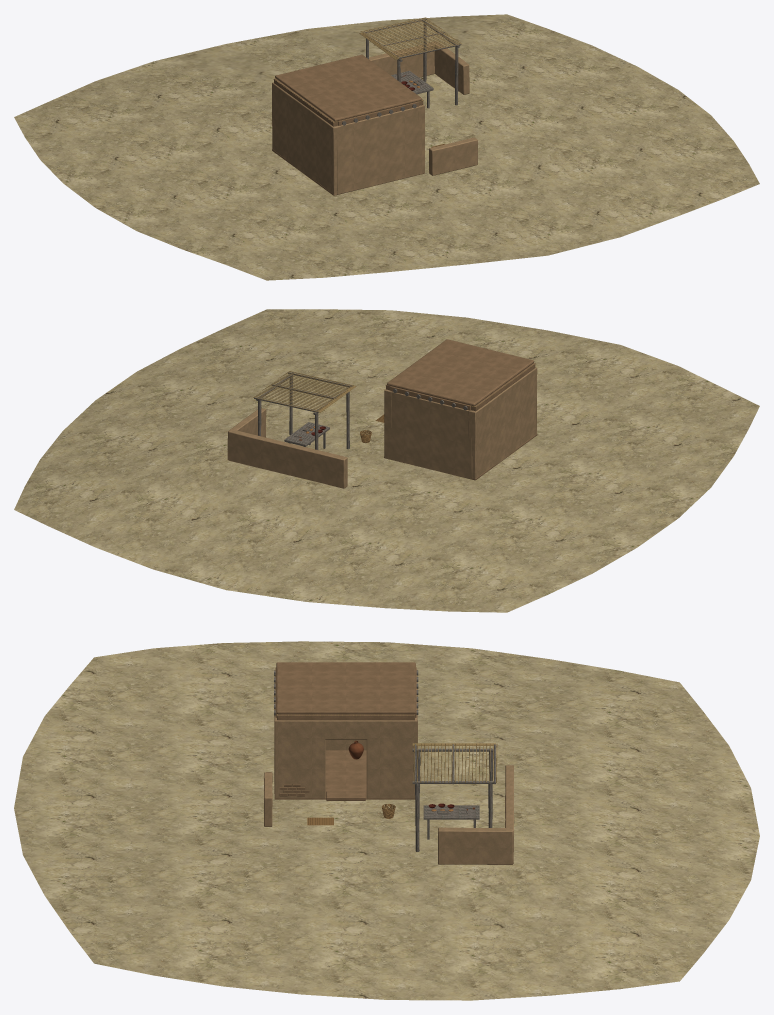
The model's file is service.glb.
3 renders of one model, top to bottom at view 1: azimuth 30°, elevation 25°; view 2: azimuth 150°, elevation 25°; view 3: azimuth 270°, elevation 25°, orthographic. The views are drawn at different scales.
Visible parts, largest first — view 1: Terrain-blended service apron, ARCH | west room wall, ARCH | roof earthen cap, ARCH | rear wall, ARCH | yard west short return, ARCH | yard east return, ARCH | yard south short return; view 2: Terrain-blended service apron, ARCH | east room wall, ARCH | roof earthen cap, ARCH | rear wall, ARCH | yard east return, ARCH | yard south short return; view 3: Terrain-blended service apron, ARCH | continuous entry wall, ARCH | roof earthen cap, ARCH | yard south short return, ARCH | storage floor, compact clay, ARCH | roof perimeter packing, SERVICE | work bench top, ARCH | yard east return.
Boxes of the visible parts, left/top/right/bottom form: Terrain-blended service apron: left=14, top=14, right=759, bottom=280; ARCH | west room wall: left=336, top=107, right=421, bottom=194; ARCH | roof earthen cap: left=275, top=54, right=422, bottom=121; ARCH | rear wall: left=272, top=82, right=340, bottom=194; ARCH | yard west short return: left=429, top=137, right=477, bottom=175; ARCH | yard east return: left=369, top=41, right=437, bottom=77; ARCH | yard south short return: left=434, top=41, right=469, bottom=94; Terrain-blended service apron: left=14, top=309, right=759, bottom=612; ARCH | east room wall: left=387, top=390, right=472, bottom=479; ARCH | roof earthen cap: left=387, top=339, right=534, bottom=406; ARCH | rear wall: left=468, top=367, right=537, bottom=478; ARCH | yard east return: left=228, top=429, right=347, bottom=488; ARCH | yard south short return: left=227, top=408, right=266, bottom=460; Terrain-blended service apron: left=14, top=641, right=759, bottom=1000; ARCH | continuous entry wall: left=274, top=717, right=417, bottom=798; ARCH | roof earthen cap: left=276, top=662, right=415, bottom=714; ARCH | yard south short return: left=438, top=827, right=512, bottom=864; ARCH | storage floor, compact clay: left=274, top=750, right=415, bottom=799; ARCH | roof perimeter packing: left=277, top=714, right=414, bottom=720; SERVICE | work bench top: left=423, top=805, right=479, bottom=819; ARCH | yard east return: left=505, top=765, right=514, bottom=863.
Bounding box in the file's own units: 22.9 × 4.01 × 21.9.
15 materials, 15 textured.
